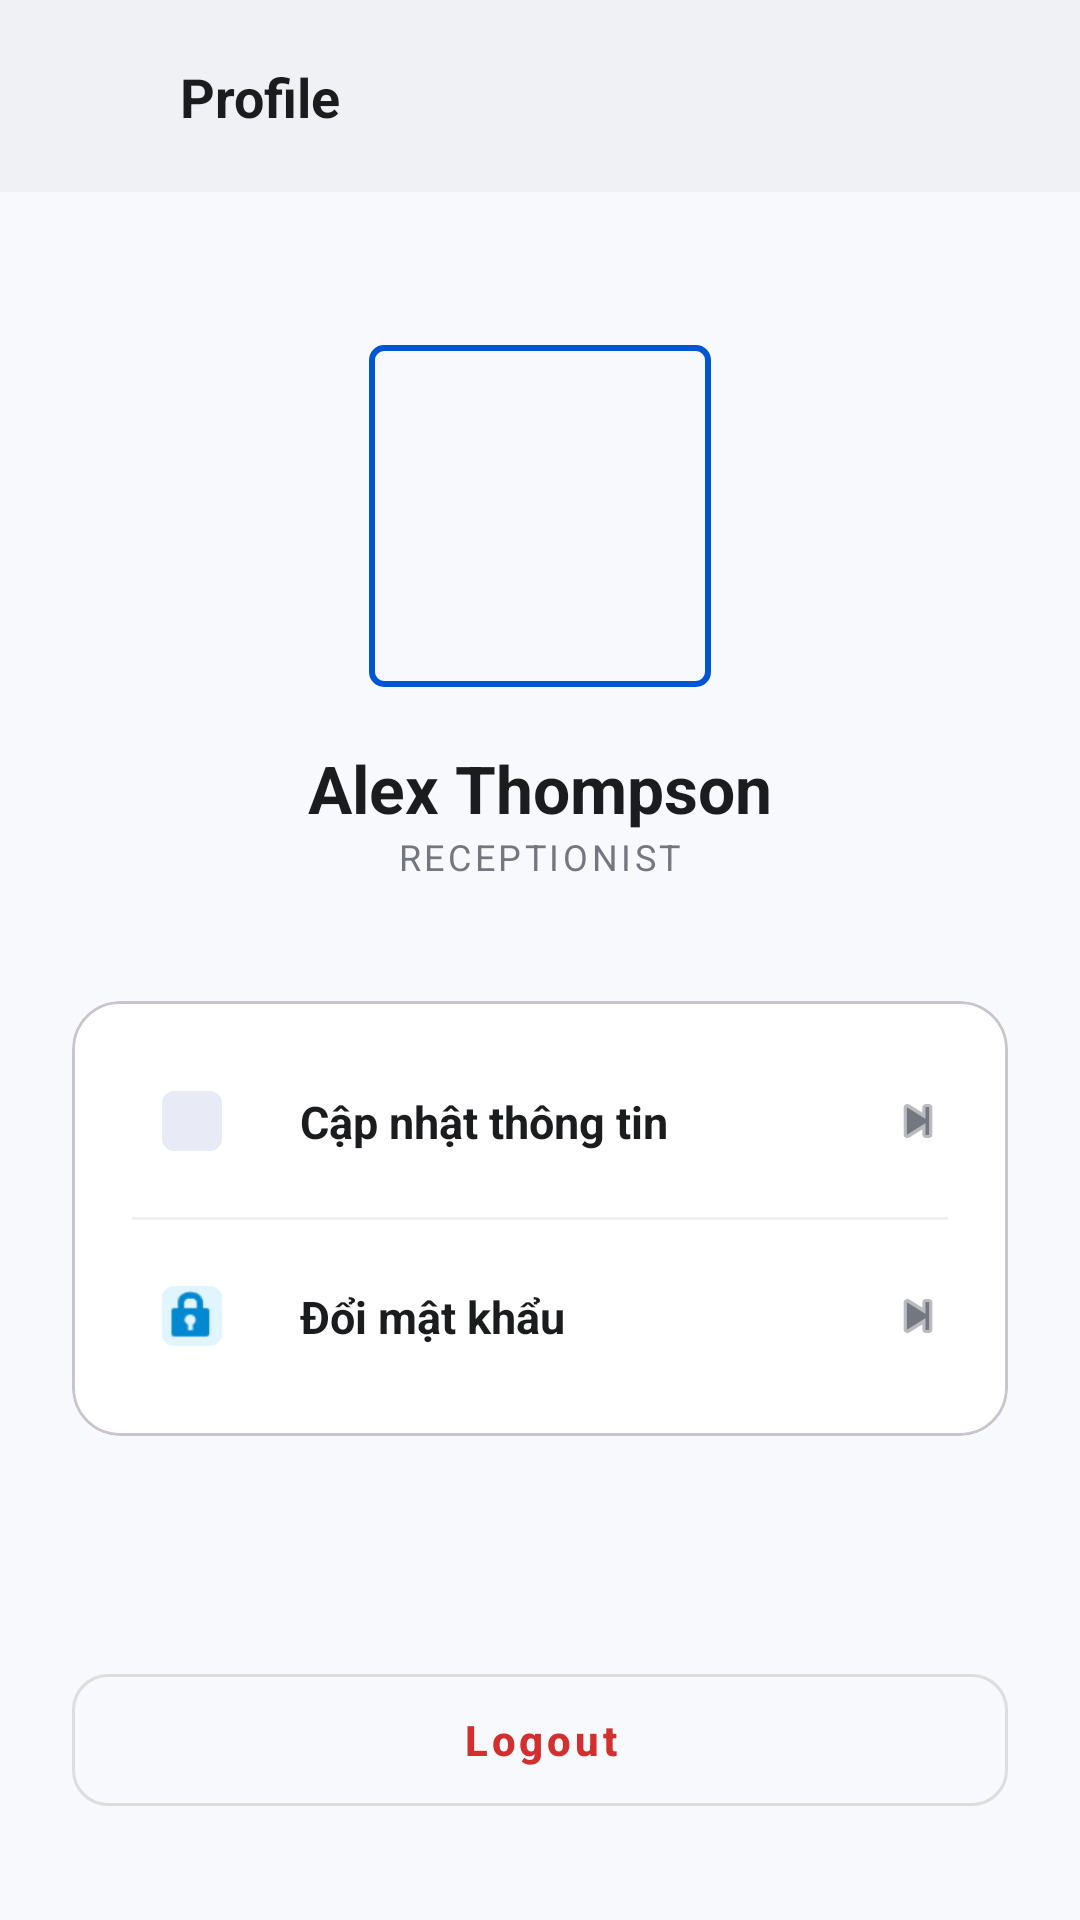

Screen size 1080x1920. Icon name, then its box in pixels as (x1, y1, x2, y2):
lock idle: (162, 1286, 222, 1346)
next: (904, 1104, 932, 1138), (904, 1299, 932, 1333)
